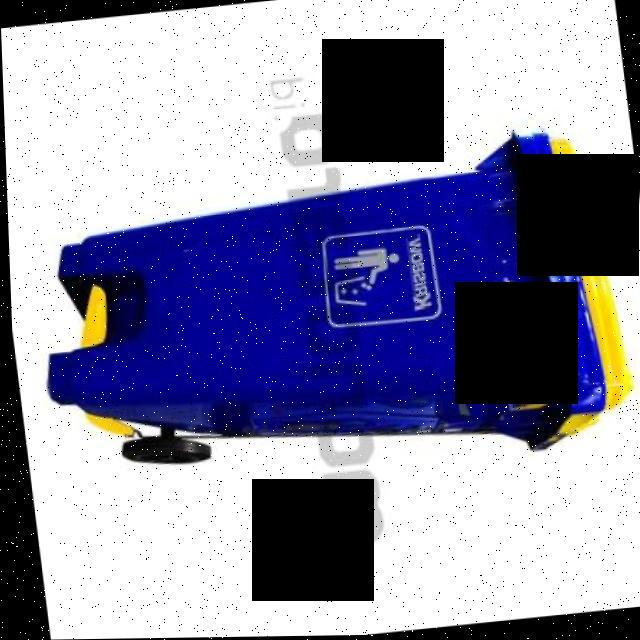bin: (6, 98, 640, 520)
